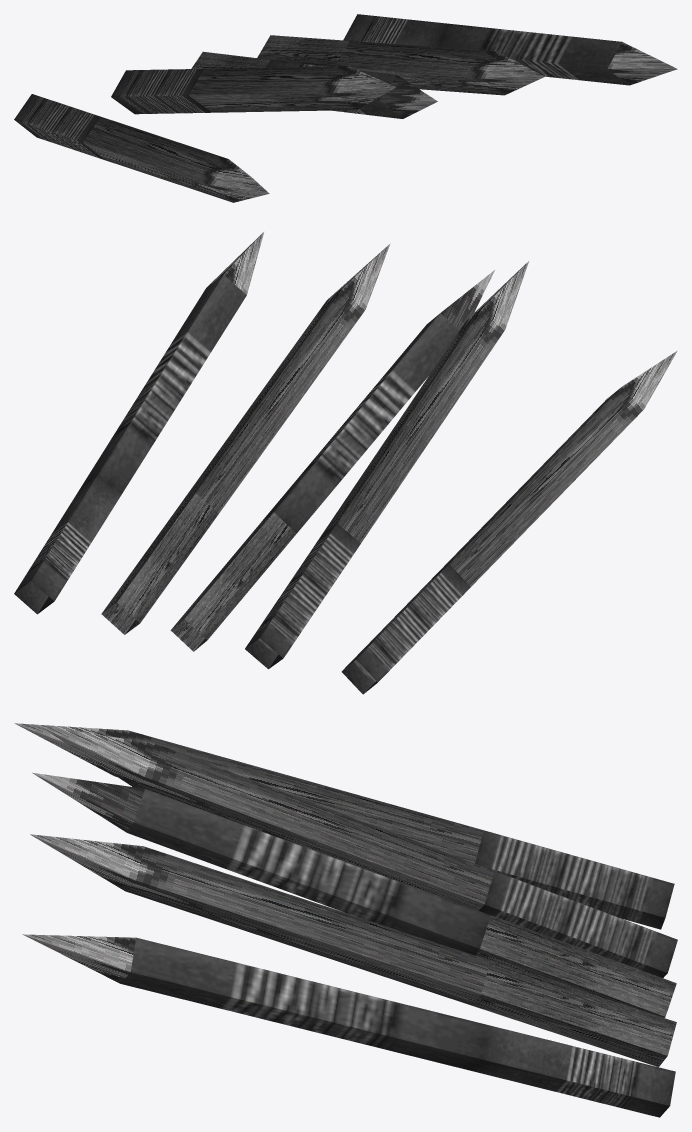
File: Dills.fbx
The picture shows the model from 3 angles, top to bottom: view 1: azimuth 30°, elevation 25°; view 2: azimuth 150°, elevation 25°; view 3: azimuth 270°, elevation 25°; orthographic projection. The views are drawn at different scales.
Parts seen in each view (by area): view 1: DILLS; view 2: DILLS; view 3: DILLS.
Boxes of the visible parts, box(x1,y1,x2,y2) form: DILLS: box(14, 14, 677, 202); DILLS: box(14, 232, 677, 694); DILLS: box(14, 723, 677, 1117).
Bounding box in the file's own units: 15.69 × 7.54 × 17.54.
